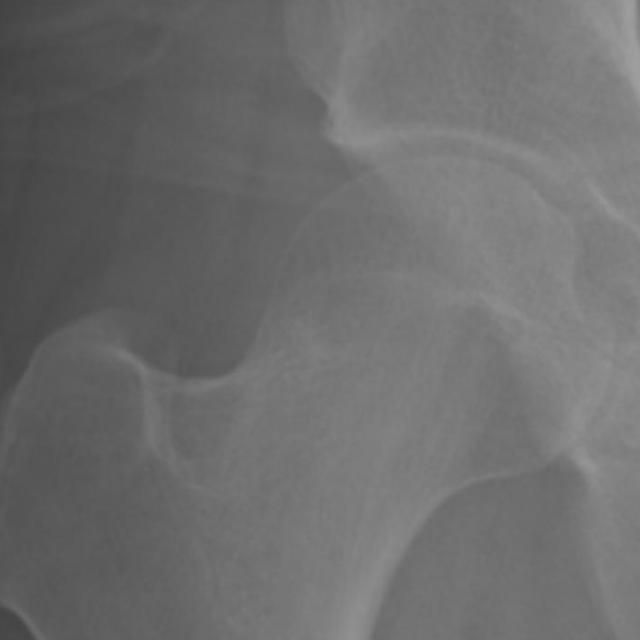Fitted_femural_head: (336, 158, 432, 336)
